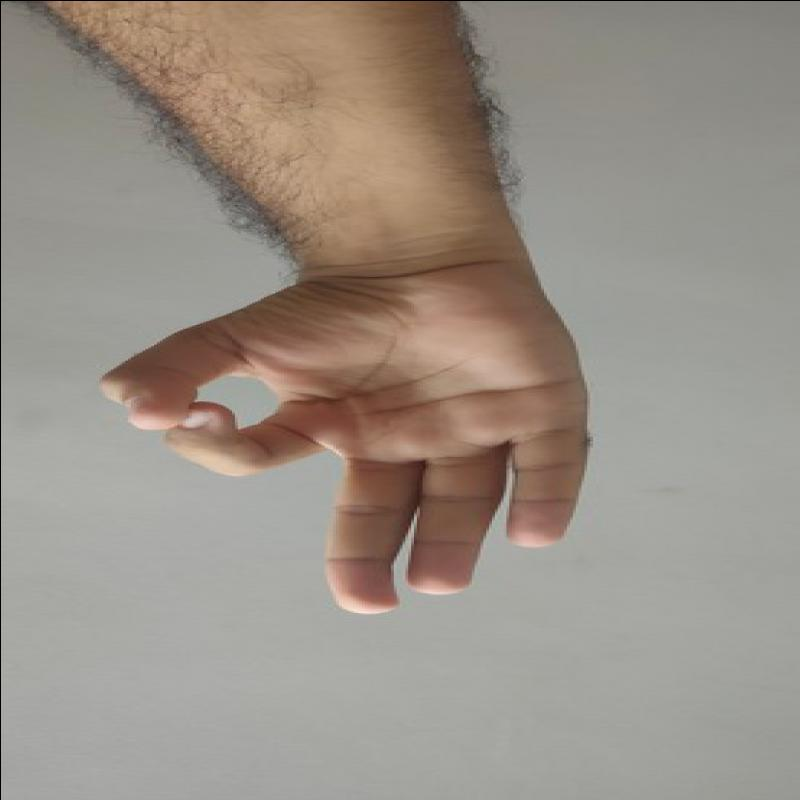Mudraakhyam: (93, 228, 604, 641)
